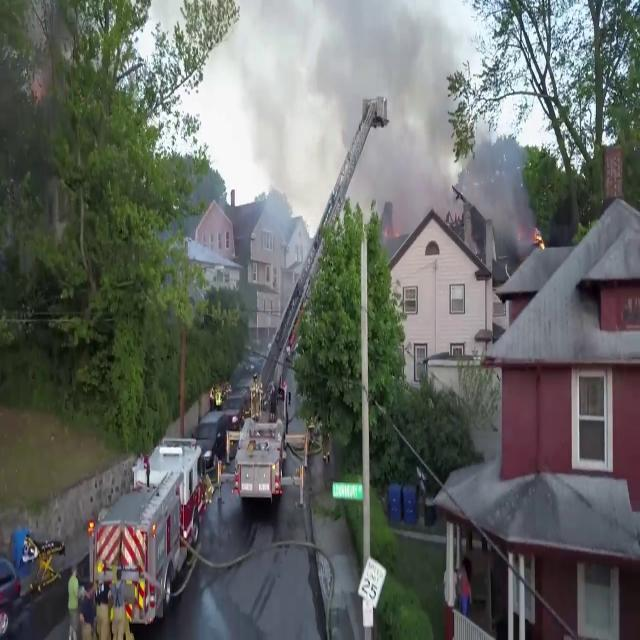Smoke: (263, 1, 523, 242), (468, 114, 543, 258)
